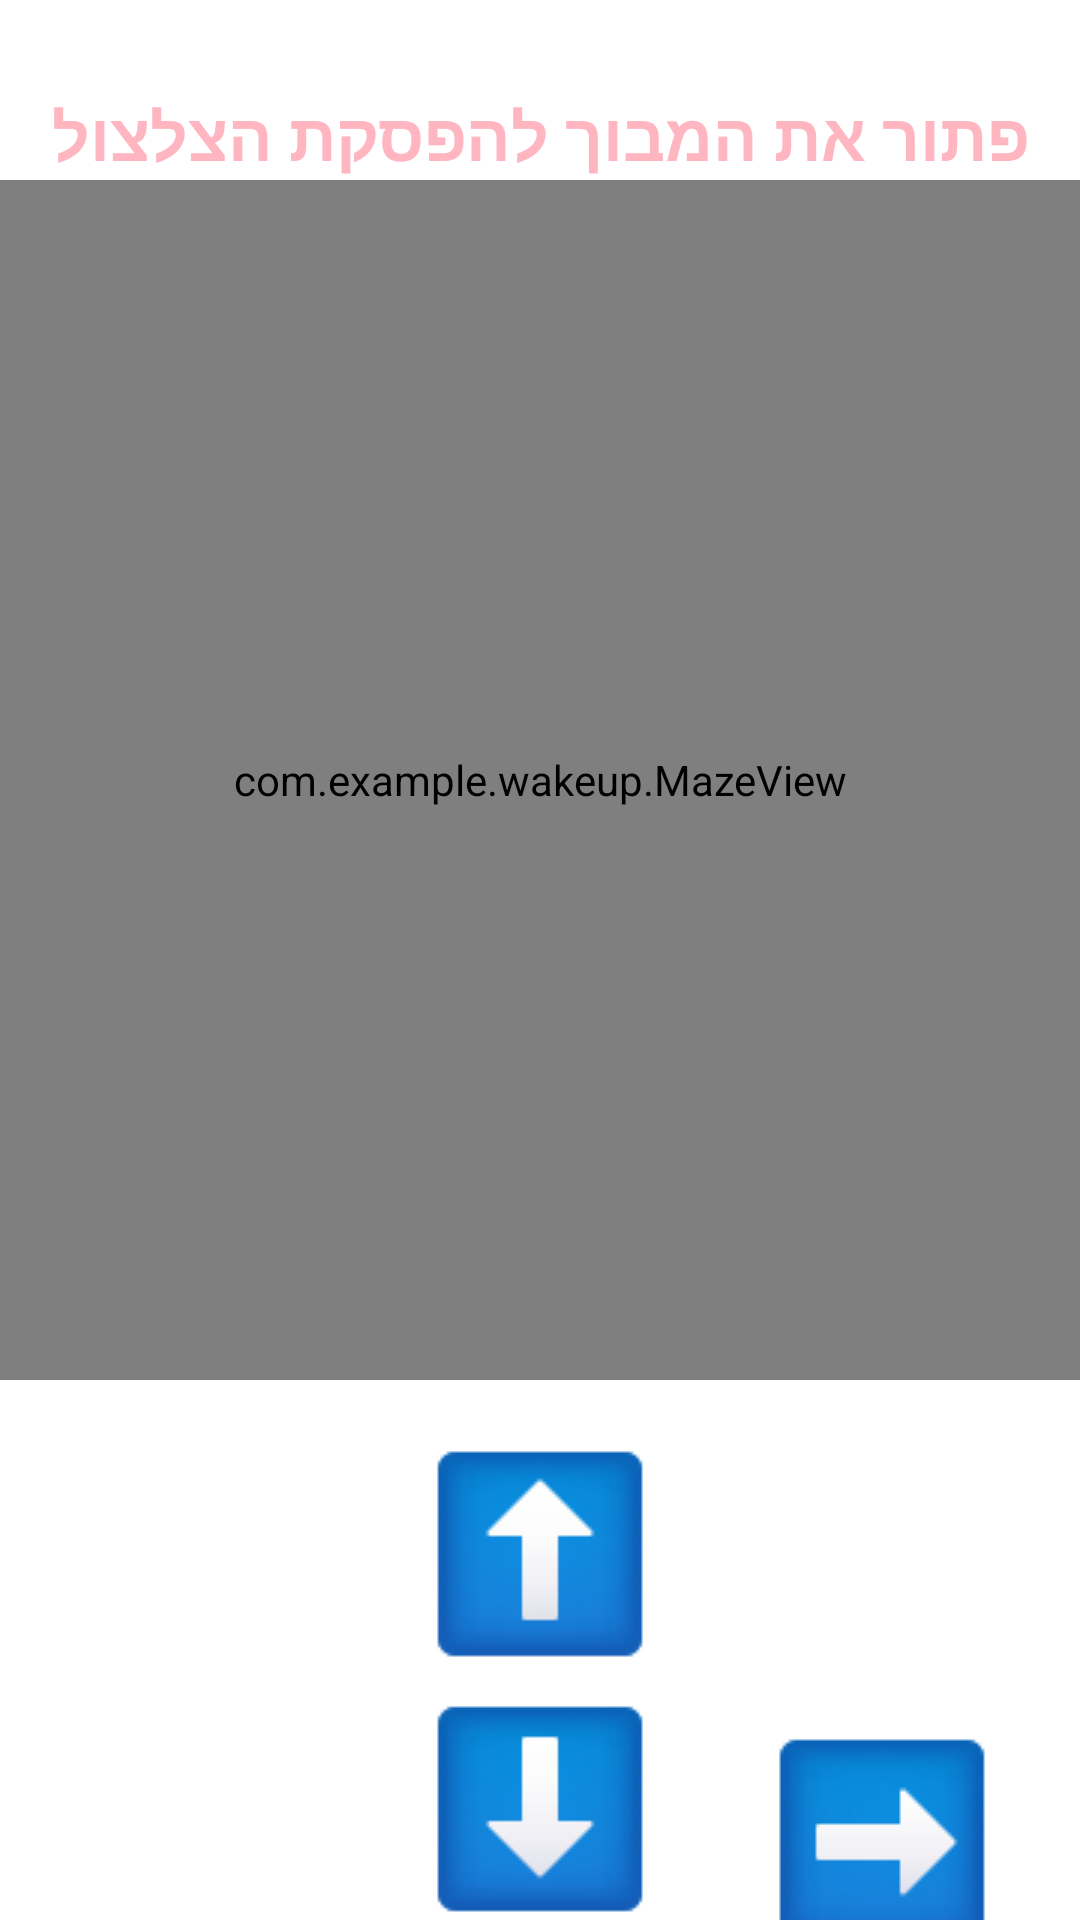

Screen size 1080 × 1920. Icon name, then its box in pixels as (x1, y1, x2, y2):
up arrow: (437, 1451, 643, 1657)
